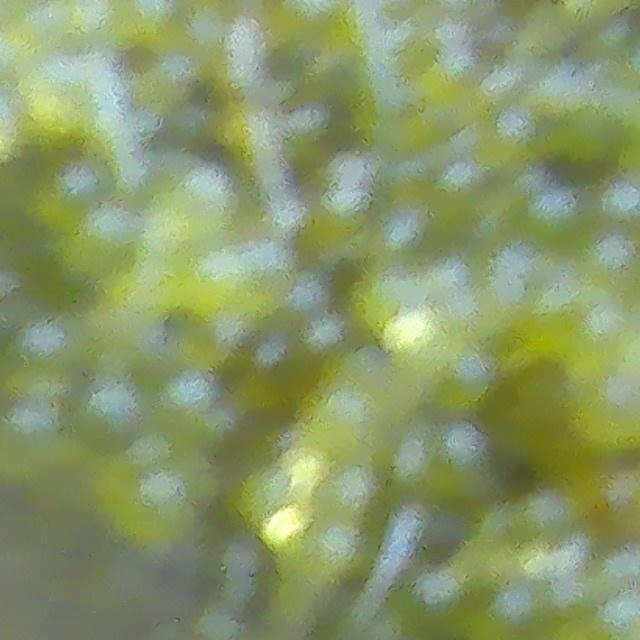SeaGrape: (64, 200, 142, 283), (76, 375, 150, 451)
